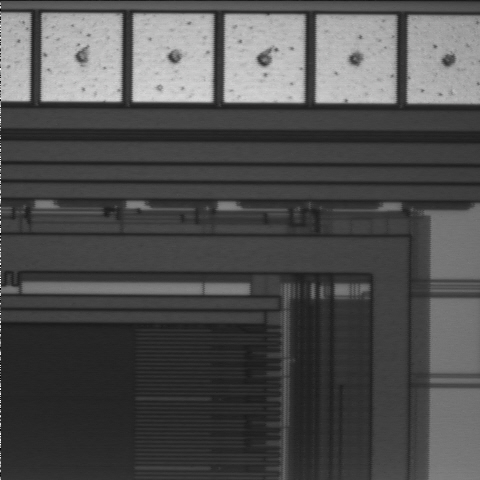pad: (42, 14, 121, 101), (133, 15, 212, 102), (225, 15, 304, 102), (316, 16, 395, 103)
